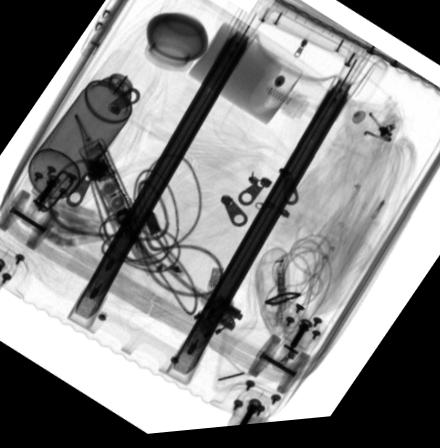Sprayer: (27, 50, 153, 199)
